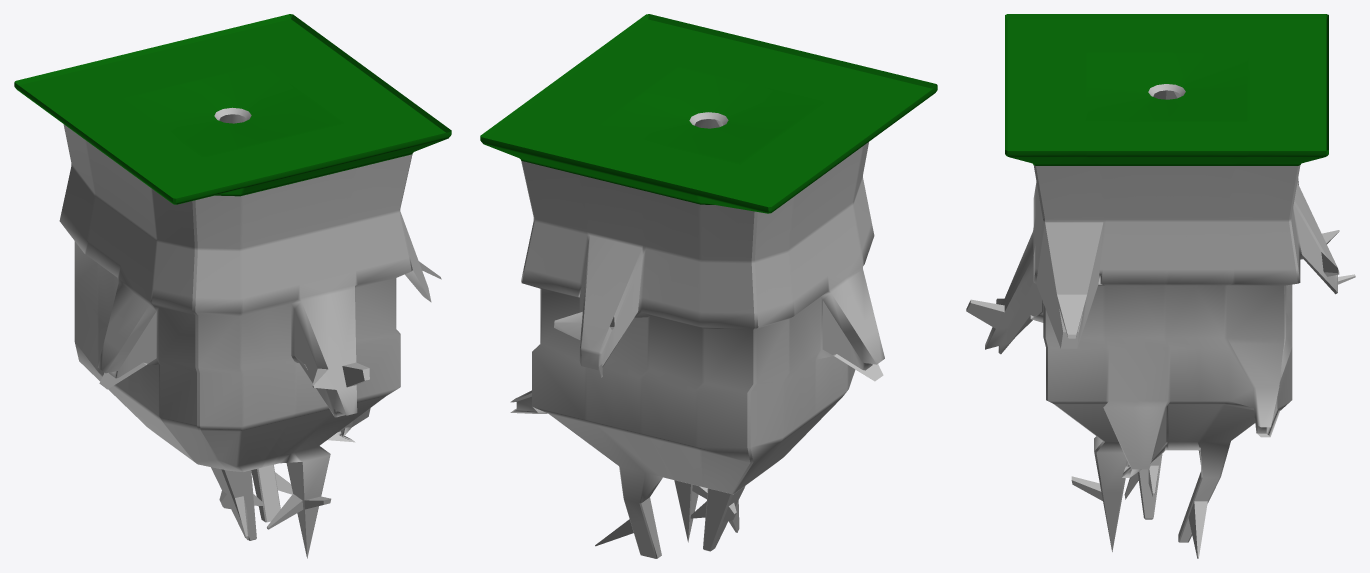
Rendered from SM_NaturalIsland.fbx.
3 views of the same model, side by side, from view 1: azimuth 30°, elevation 25°; view 2: azimuth 150°, elevation 25°; view 3: azimuth 270°, elevation 25° (orthographic). The views are drawn at different scales.
Parts seen in each view (by area): view 1: SM_NaturalIsland; view 2: SM_NaturalIsland; view 3: SM_NaturalIsland.
Part boxes in pixels (x1,y1,x2,y2): SM_NaturalIsland: (14, 14, 451, 558); SM_NaturalIsland: (480, 14, 937, 558); SM_NaturalIsland: (966, 14, 1355, 558).
Bounding box in the file's own units: 201 × 277 × 219.
